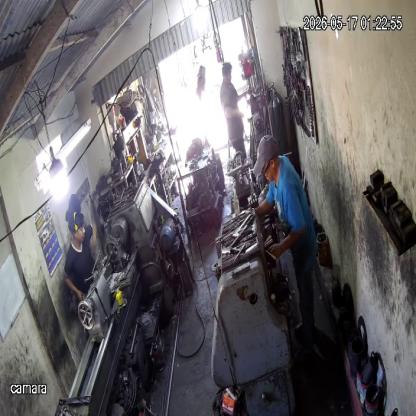lentes: (262, 157, 273, 175)
